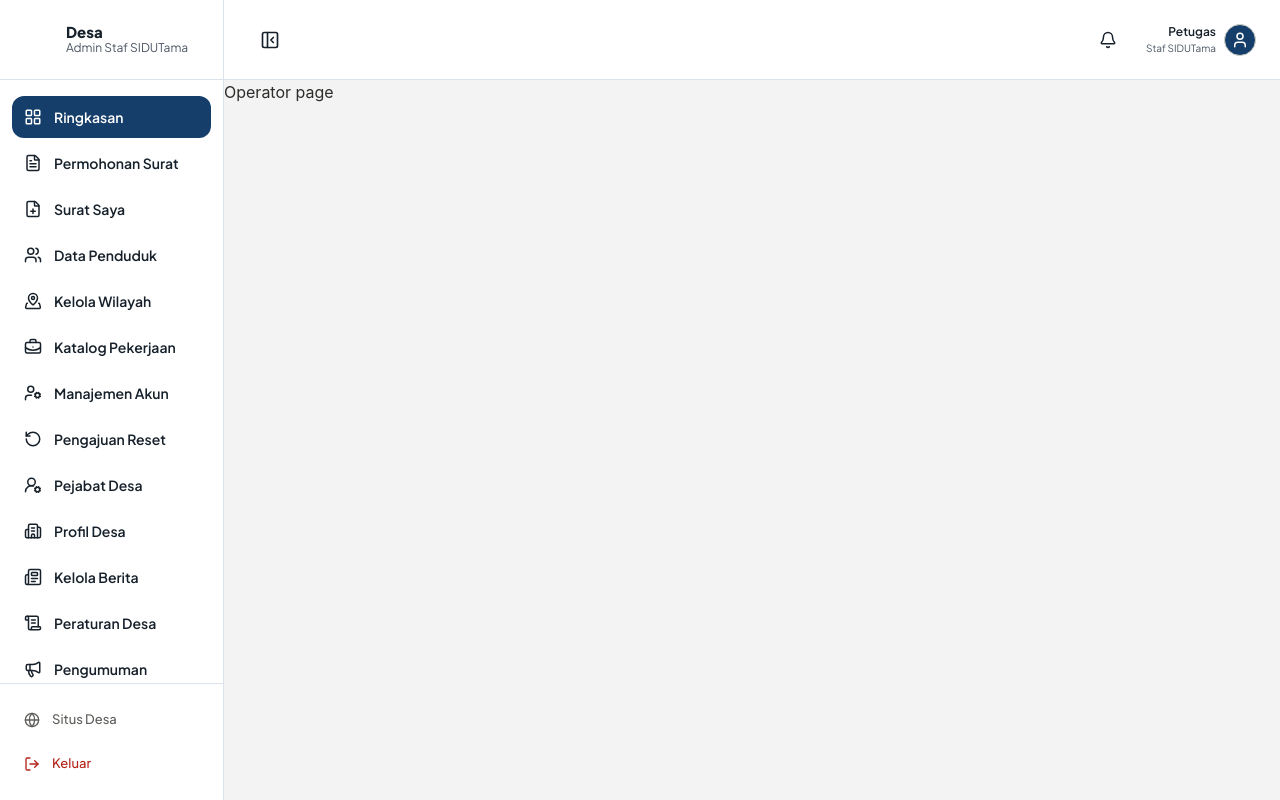
OperatorDesaLayout sidebar › collapses and expands manually on desktop and remembers the choice
Click the button named "Ciutkan menu" at (270, 40), box [248, 18, 292, 62]
(page scrolled)
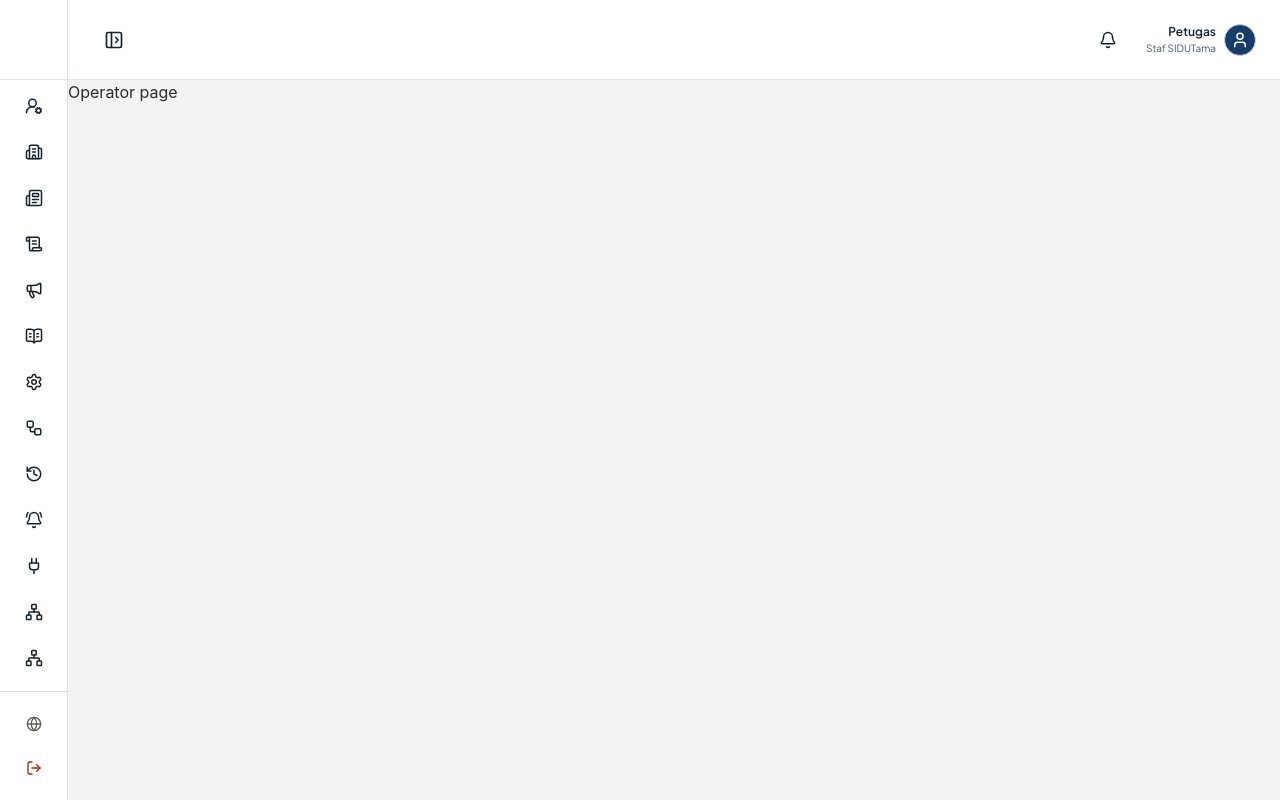
Now the element with class "sid-operator-layout" has class "is-rail"
Note: Pindah menu tidak mengubah pilihan di desktop.
Click the link named "Log Aktivitas" at (34, 474), box [24, 465, 42, 483]
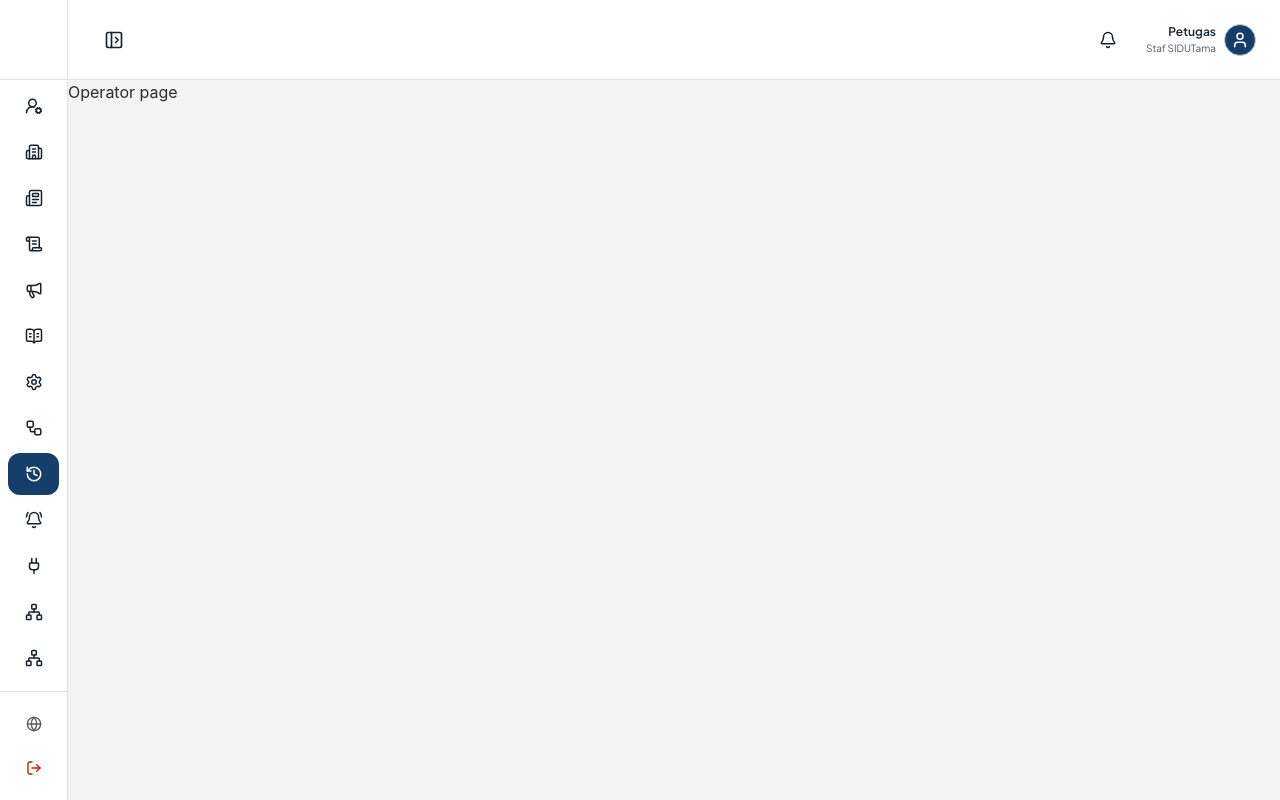
Now the element with class "sid-operator-layout" has class "is-rail"
Click the button named "Perluas menu" at (114, 40), box [92, 18, 136, 62]
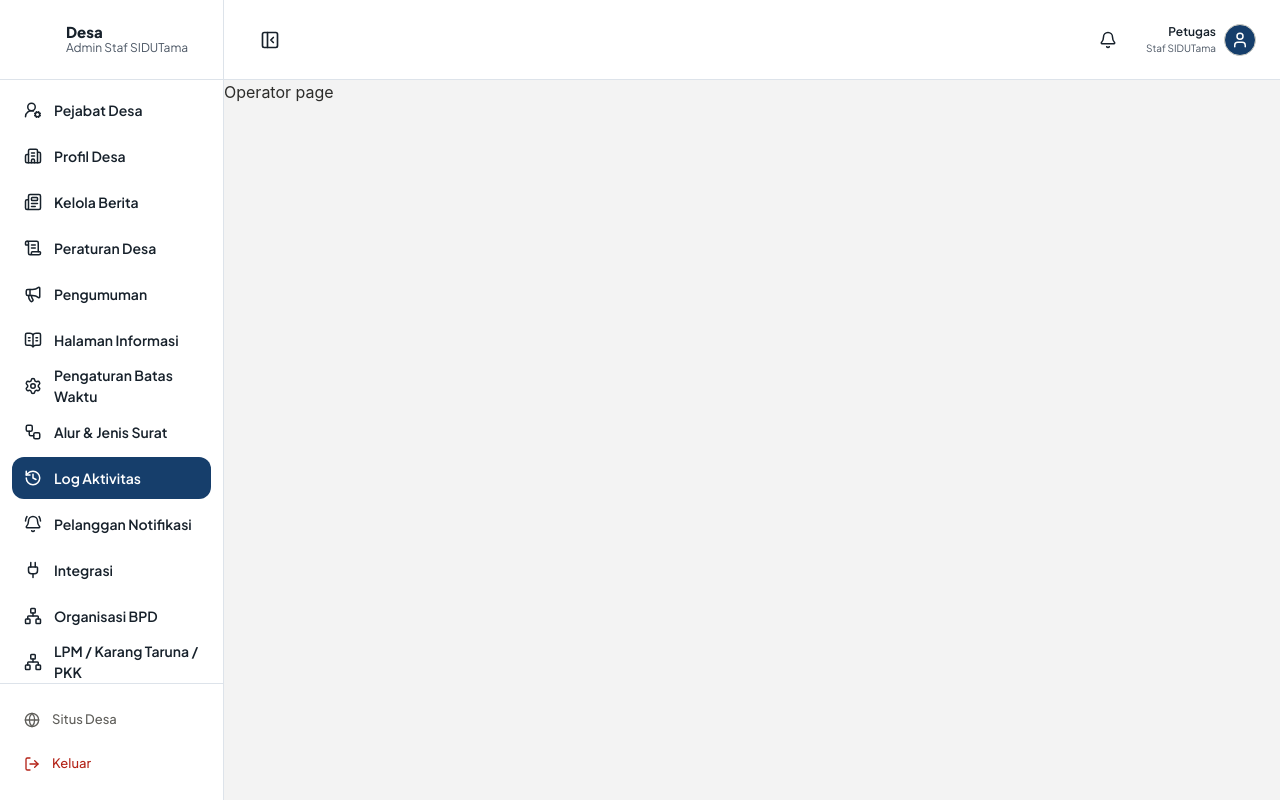
Now the element with class "sid-operator-layout" does not have class "is-rail"
